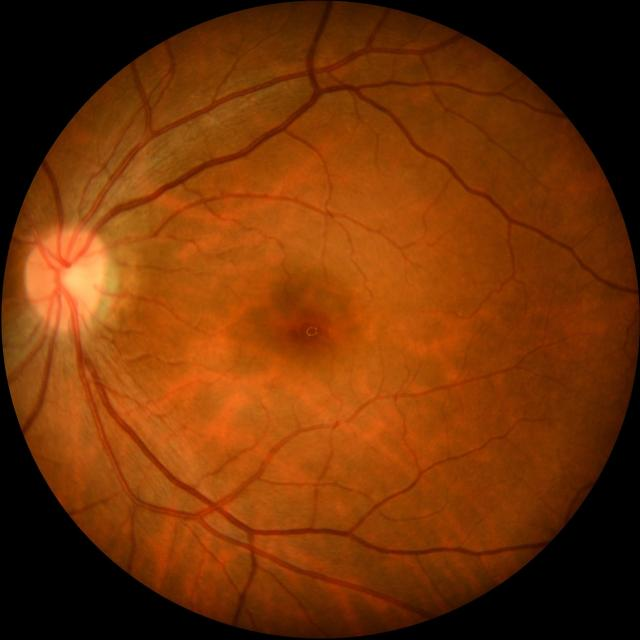OC: (60, 264, 90, 296)
OD: (26, 228, 104, 328)
